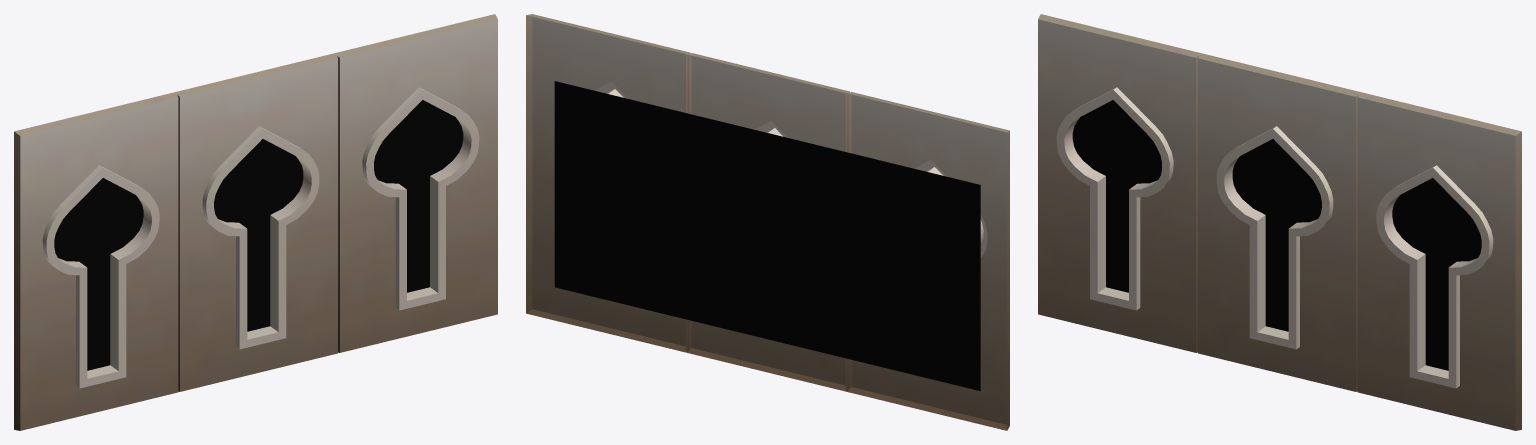
File: M_OnionWindows_01.fbx
3 views of the same model, side by side, from view 1: azimuth 30°, elevation 25°; view 2: azimuth 150°, elevation 25°; view 3: azimuth 330°, elevation 25° (orthographic).
Visible parts, largest first — view 1: M_OnionWindows_01; view 2: M_OnionWindows_01; view 3: M_OnionWindows_01.
Boxes of the visible parts, box(x1,y1,x2,y2) form: M_OnionWindows_01: box(14, 14, 497, 430); M_OnionWindows_01: box(526, 14, 1009, 430); M_OnionWindows_01: box(1038, 14, 1521, 430).
Bounding box in the file's own units: 268 × 158 × 7.97.
1 material, 1 textured.
